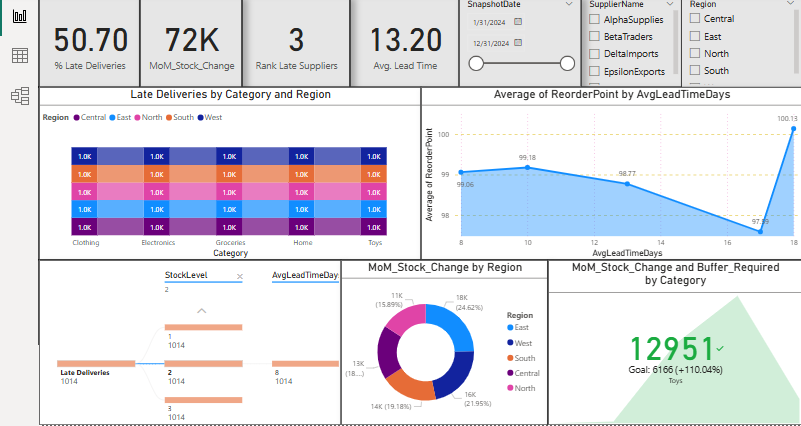

The dashboard page shown, as its layout file describes it:
{"tool":"powerbi","page":{"name":"Supplier Performance","canvas":[1280,720],"ordinal":1},"visuals":[{"type":"card","fields":{"Values":["Inventory.% Late Deliveries"]},"box":[0,0,169.4,152.7],"z":0},{"type":"card","fields":{"Values":["Inventory.Avg. Lead Time"]},"box":[521.7,0,182.9,152.7],"z":1000},{"type":"card","fields":{"Values":["Inventory.Rank Late Suppliers"]},"box":[340.6,0,181.2,152.7],"z":2000},{"type":"card","fields":{"Values":["Inventory.MoM_Stock_Change"]},"box":[169.4,0,171.1,152.7],"z":3000},{"type":"slicer","fields":{"Values":["Inventory.SupplierName"]},"box":[909.3,0,169.4,152.7],"z":4000},{"type":"slicer","fields":{"Values":["Inventory.Region"]},"box":[1078.7,0,201.3,152.7],"z":5000},{"type":"slicer","fields":{"Values":["Inventory.SnapshotDate"]},"box":[704.6,0,204.7,152.7],"z":6000},{"type":"ribbonChart","fields":{"Category":["Inventory.Category"],"Y":["Inventory.Late Deliveries"],"Series":["Inventory.Region"]},"box":[0,152.7,640.8,290.2],"z":7000},{"type":"areaChart","fields":{"Category":["Inventory.AvgLeadTimeDays"],"Y":["Avg(Inventory.ReorderPoint)"]},"box":[640.8,152.7,639.2,290.2],"z":8000},{"type":"decompositionTreeVisual","fields":{"Analyze":["Inventory.Late Deliveries"],"ExplainBy":["Inventory.StockLevel","Inventory.AvgLeadTimeDays"]},"box":[0,442.9,506.6,276.8],"z":9000},{"type":"donutChart","fields":{"Category":["Inventory.Region"],"Y":["Inventory.MoM_Stock_Change"]},"box":[506.6,442.9,347.3,276.8],"z":10000},{"type":"kpi","fields":{"Indicator":["Inventory.MoM_Stock_Change"],"TrendLine":["Inventory.Category"],"Goal":["Inventory.Buffer_Required"]},"box":[854,443,426,277],"z":11000}]}

Visuals, with their boxes in screenshot pixels (x1, y1, x2, y2):
card - Inventory.% Late Deliveries: box(33, 0, 136, 84)
card - Inventory.Avg. Lead Time: box(349, 0, 459, 84)
card - Inventory.Rank Late Suppliers: box(239, 0, 349, 84)
card - Inventory.MoM_Stock_Change: box(136, 0, 239, 84)
slicer - Inventory.SupplierName: box(583, 0, 685, 84)
slicer - Inventory.Region: box(685, 0, 800, 84)
slicer - Inventory.SnapshotDate: box(459, 0, 583, 84)
ribbonChart - Inventory.Category x Inventory.Late Deliveries: box(33, 84, 421, 259)
areaChart - Inventory.AvgLeadTimeDays x Avg(Inventory.ReorderPoint): box(421, 84, 800, 259)
decompositionTreeVisual - Inventory.Late Deliveries x Inventory.StockLevel: box(33, 259, 340, 425)
donutChart - Inventory.Region x Inventory.MoM_Stock_Change: box(340, 259, 549, 425)
kpi - Inventory.MoM_Stock_Change x Inventory.Category: box(549, 259, 800, 425)
